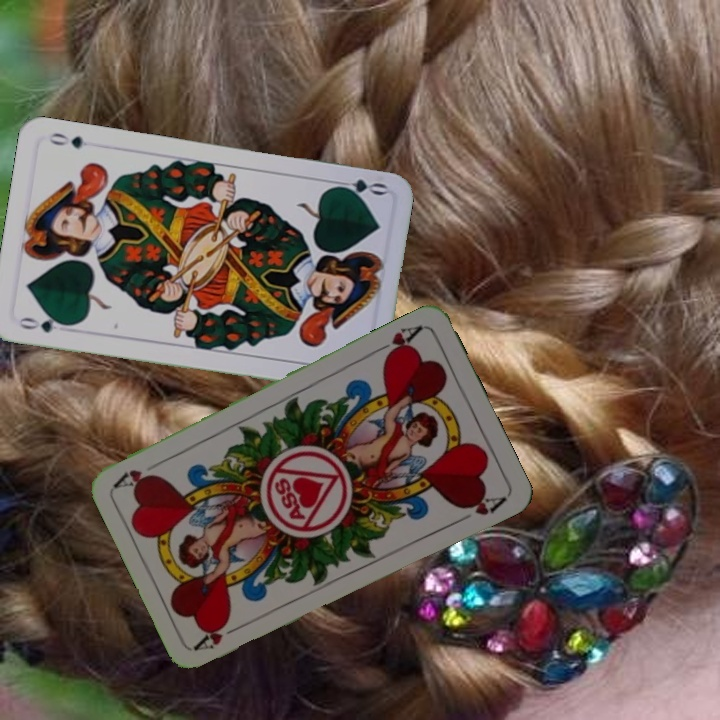GO: (329, 175, 389, 201), (15, 312, 74, 336)
HA: (371, 321, 426, 362), (192, 614, 247, 653)
